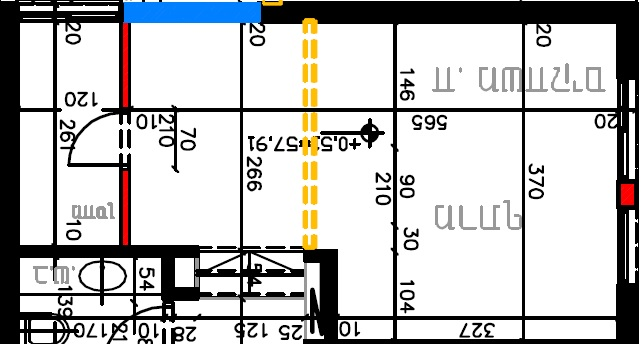wall: (1, 1, 21, 336), (319, 1, 636, 22)
